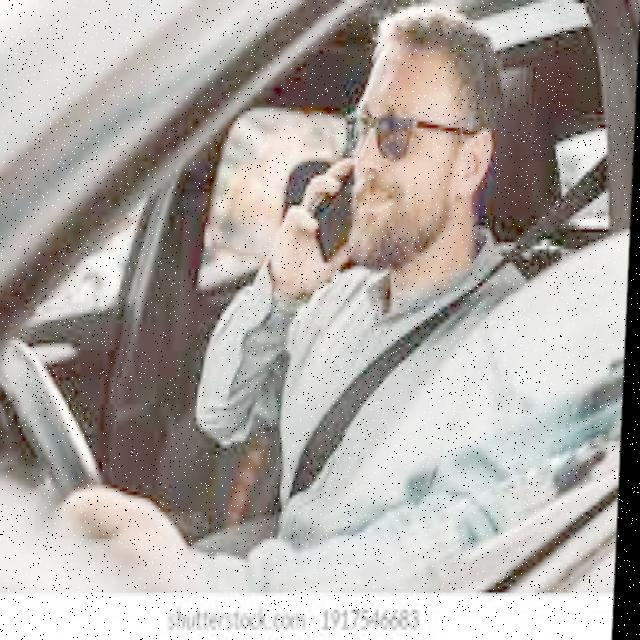seatbelt: (258, 243, 546, 562)
